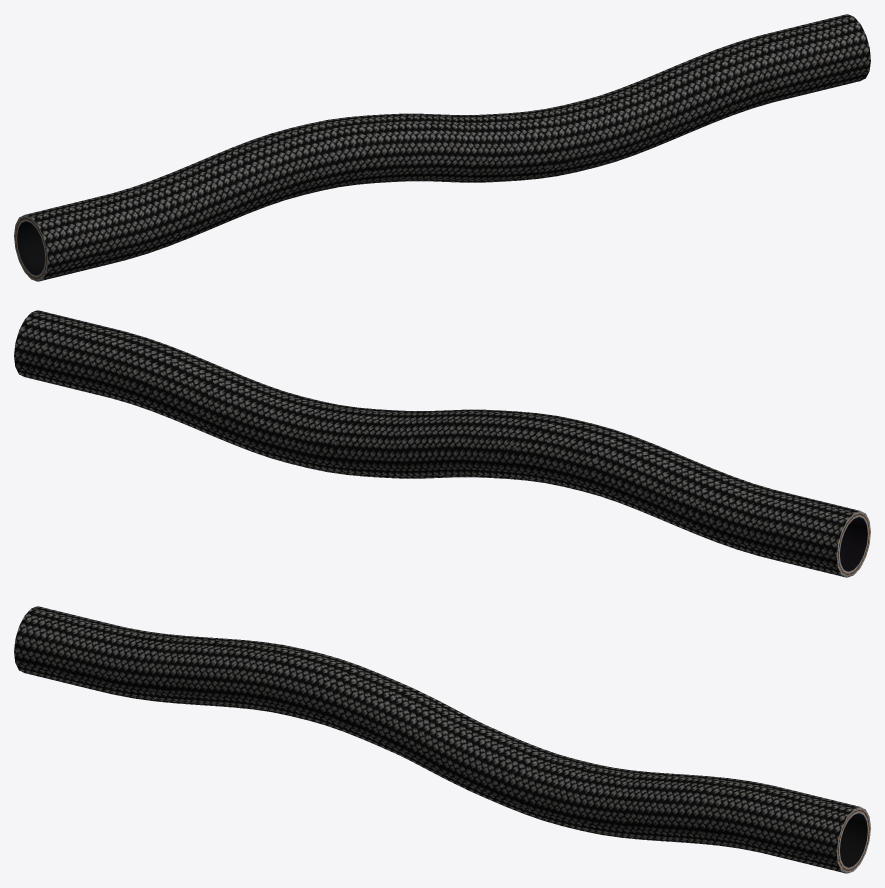
3 views of the same model, one above another, from view 1: azimuth 30°, elevation 25°; view 2: azimuth 150°, elevation 25°; view 3: azimuth 330°, elevation 25° (orthographic).
Visible parts, largest first — view 1: Polyester_Braid-20; view 2: Polyester_Braid-20; view 3: Polyester_Braid-20.
Part boxes in pixels (x1,y1,x2,y2): Polyester_Braid-20: (14,14,870,281); Polyester_Braid-20: (14,310,870,577); Polyester_Braid-20: (14,606,870,873).
Size of the model in its own units: 0.5 by 0.0615 by 0.0361.
2 materials, 2 textured.
